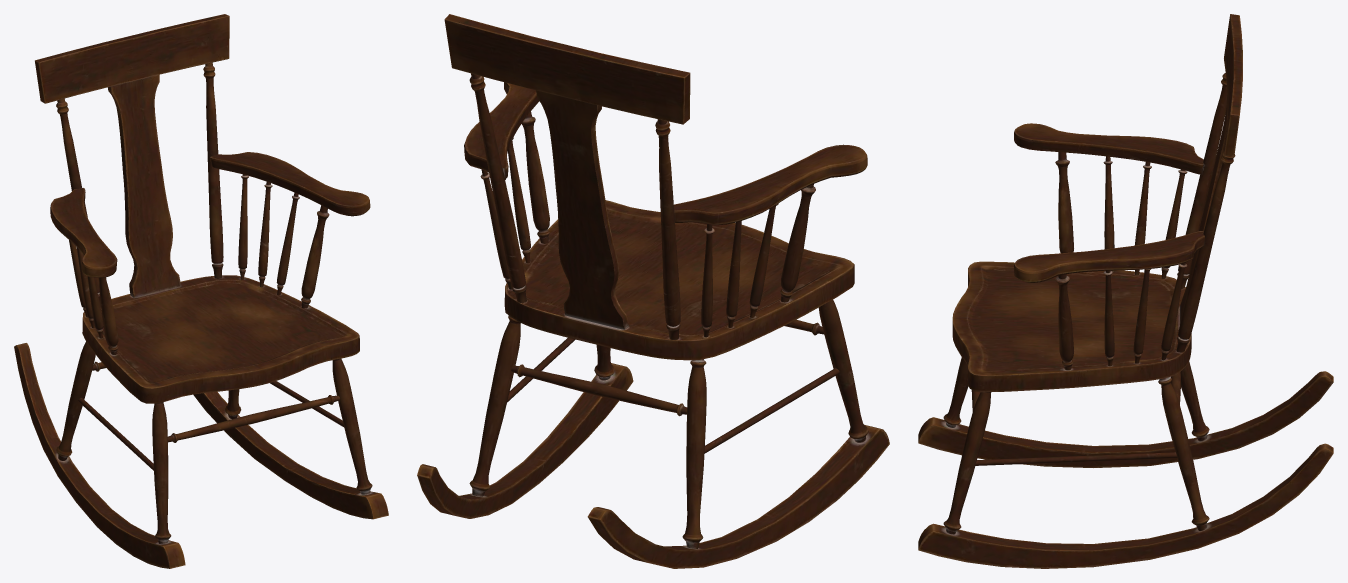
Rendered from rockingchair_01.glb.
3 views of the same model, side by side, from view 1: azimuth 30°, elevation 25°; view 2: azimuth 150°, elevation 25°; view 3: azimuth 270°, elevation 25° (orthographic). The views are drawn at different scales.
Parts seen in each view (by area): view 1: Rockingchair_01; view 2: Rockingchair_01; view 3: Rockingchair_01.
Boxes of the visible parts, bbox=[...] form: Rockingchair_01: bbox=[14, 14, 388, 568]; Rockingchair_01: bbox=[417, 14, 889, 568]; Rockingchair_01: bbox=[918, 14, 1333, 568].
Bounding box in the file's own units: 0.7081 × 0.9949 × 0.8335.
1 material, 1 textured.
